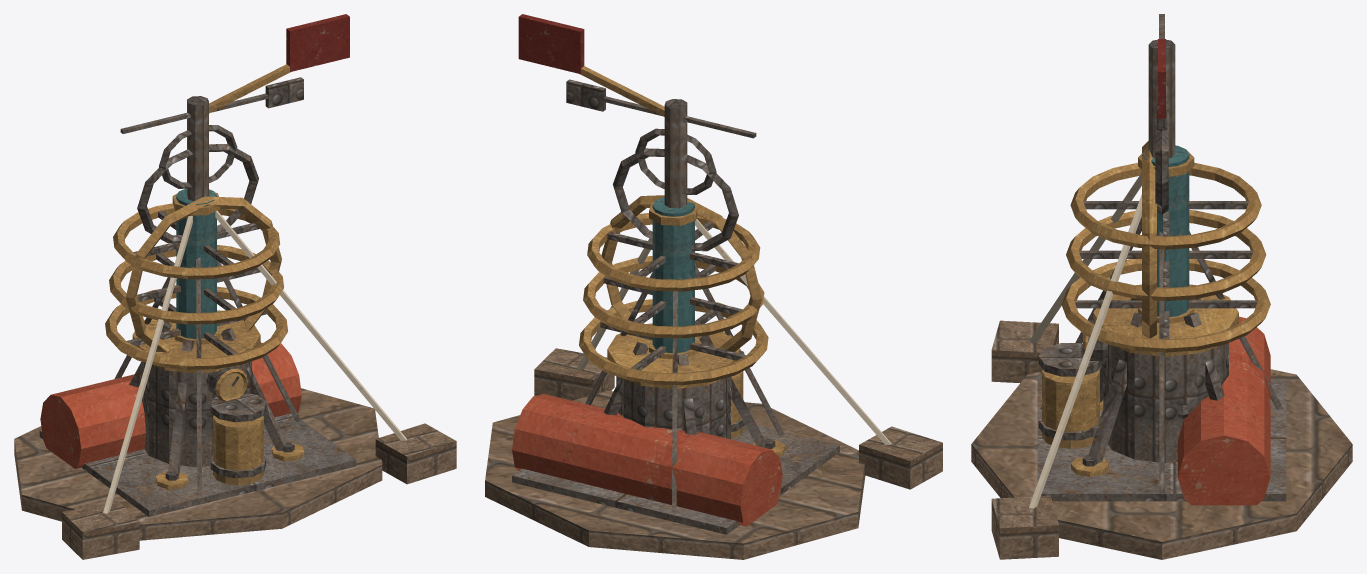
Rendered from west-wind-anchor.glb.
The picture shows the model from 3 angles, left to right: view 1: azimuth 30°, elevation 25°; view 2: azimuth 150°, elevation 25°; view 3: azimuth 270°, elevation 25°; orthographic projection. The views are drawn at different scales.
Visible parts, largest first — view 1: west-wind-anchor; view 2: west-wind-anchor; view 3: west-wind-anchor.
Part boxes in pixels (x1,y1,x2,y2): west-wind-anchor: (14, 14, 456, 559); west-wind-anchor: (485, 14, 942, 559); west-wind-anchor: (971, 14, 1352, 559).
Bounding box in the file's own units: 5.93 × 6.3 × 4.6.
1 material, 1 textured.
